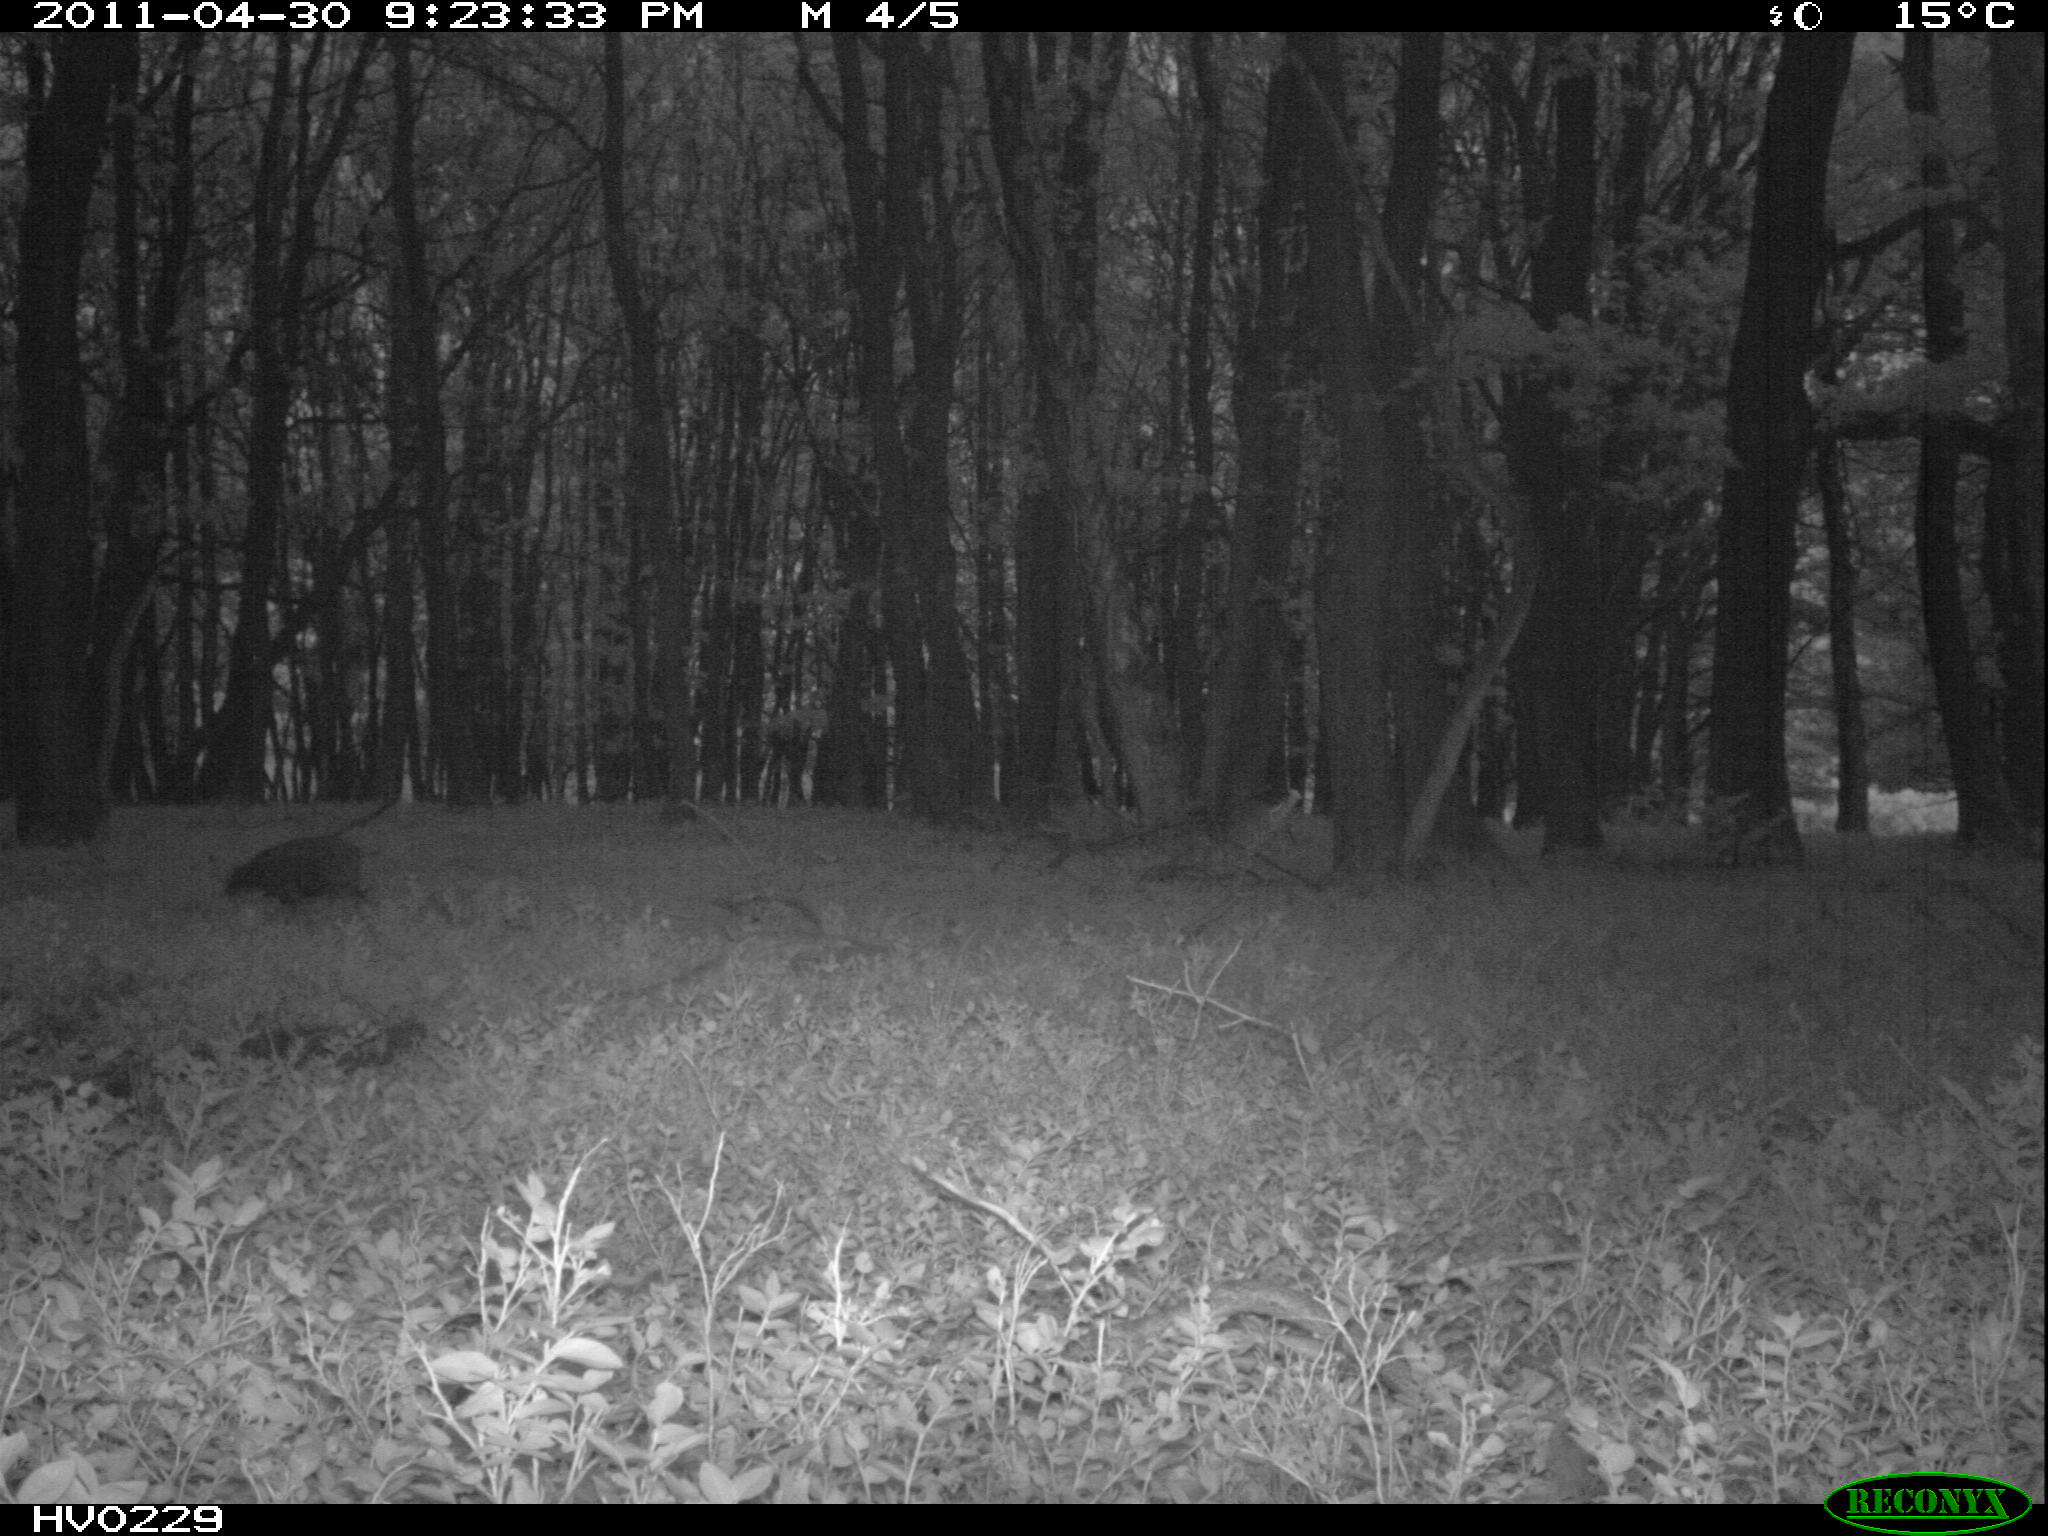Pig: (221, 816, 376, 931)
